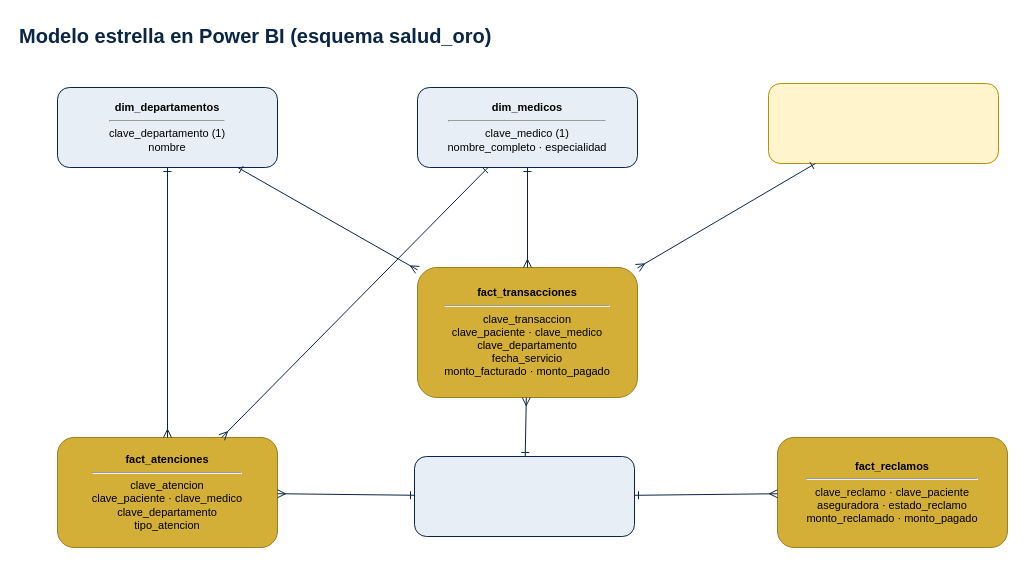
Some shapes in this 1025 by 565 pixel diagram are drawn without their labels. The shapes that lost their labels are listed below. From the top down, each one's centre as x and y in pixels, then its label:
At point 883,123: "Calendario (DAX) Date (1) · Año · Mes".
At point 524,496: "dim_pacientes clave_paciente (1) nombre · genero · fecha_nacimiento".
